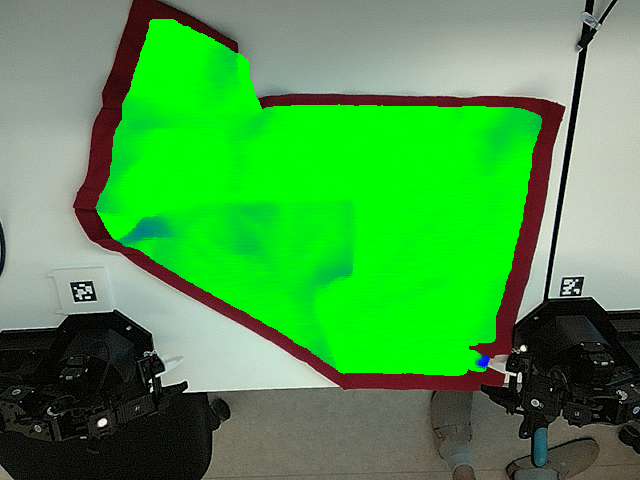V: (320, 192, 365, 225), (330, 254, 363, 284)
